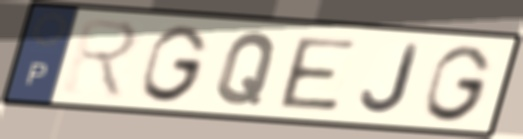E: (277, 35, 361, 115)
G: (421, 42, 496, 124), (138, 23, 213, 105)
J: (358, 41, 424, 117)
Q: (212, 30, 281, 108)
R: (59, 15, 143, 103)
